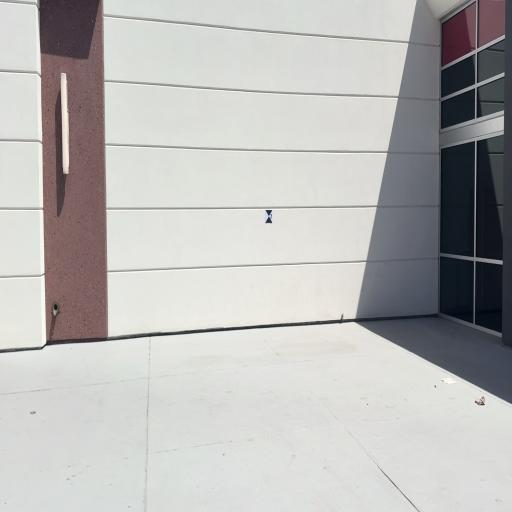target7: (265, 209, 273, 223)
